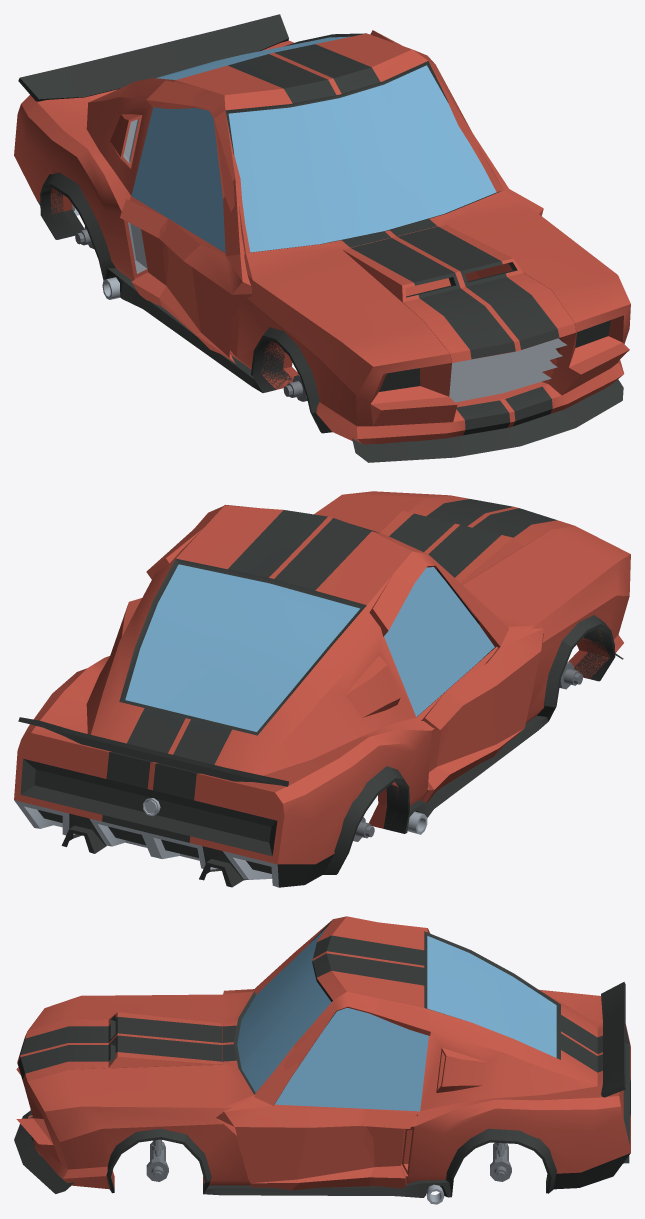
Rendered from macchina_rossa_5.fbx.
The picture shows the model from 3 angles, top to bottom: view 1: azimuth 30°, elevation 25°; view 2: azimuth 150°, elevation 25°; view 3: azimuth 270°, elevation 25°; orthographic projection. The views are drawn at different scales.
Parts seen in each view (by area): view 1: scocca_rossa, cofano_1, porta_rotta_dx_1, porta_nuova_dx_1, porta_rotta_sx_2; view 2: scocca_rossa, porta_rotta_dx_1, porta_nuova_dx_1, cofano_1, porta_rotta_sx_2; view 3: scocca_rossa, porta_rotta_sx_2, porta_nuova__sx_2, cofano_1, porta_rotta_dx_1.
Boxes of the visible parts, box(x1,y1,x2,y2) form: scocca_rossa: box(14, 14, 630, 462); cofano_1: box(343, 224, 576, 362); porta_rotta_dx_1: box(120, 80, 252, 363); porta_nuova_dx_1: box(129, 80, 252, 361); porta_rotta_sx_2: box(370, 30, 543, 215); scocca_rossa: box(14, 491, 630, 887); porta_rotta_dx_1: box(369, 552, 543, 802); porta_nuova_dx_1: box(367, 551, 535, 800); cofano_1: box(380, 495, 574, 584); porta_rotta_sx_2: box(146, 527, 204, 579); scocca_rossa: box(14, 916, 630, 1204); porta_rotta_sx_2: box(216, 992, 430, 1190); porta_nuova__sx_2: box(222, 992, 428, 1186); cofano_1: box(17, 1012, 221, 1086); porta_rotta_dx_1: box(223, 921, 430, 994).
Bounding box in the file's own units: 215 × 146 × 426.
1 material, 1 textured.
